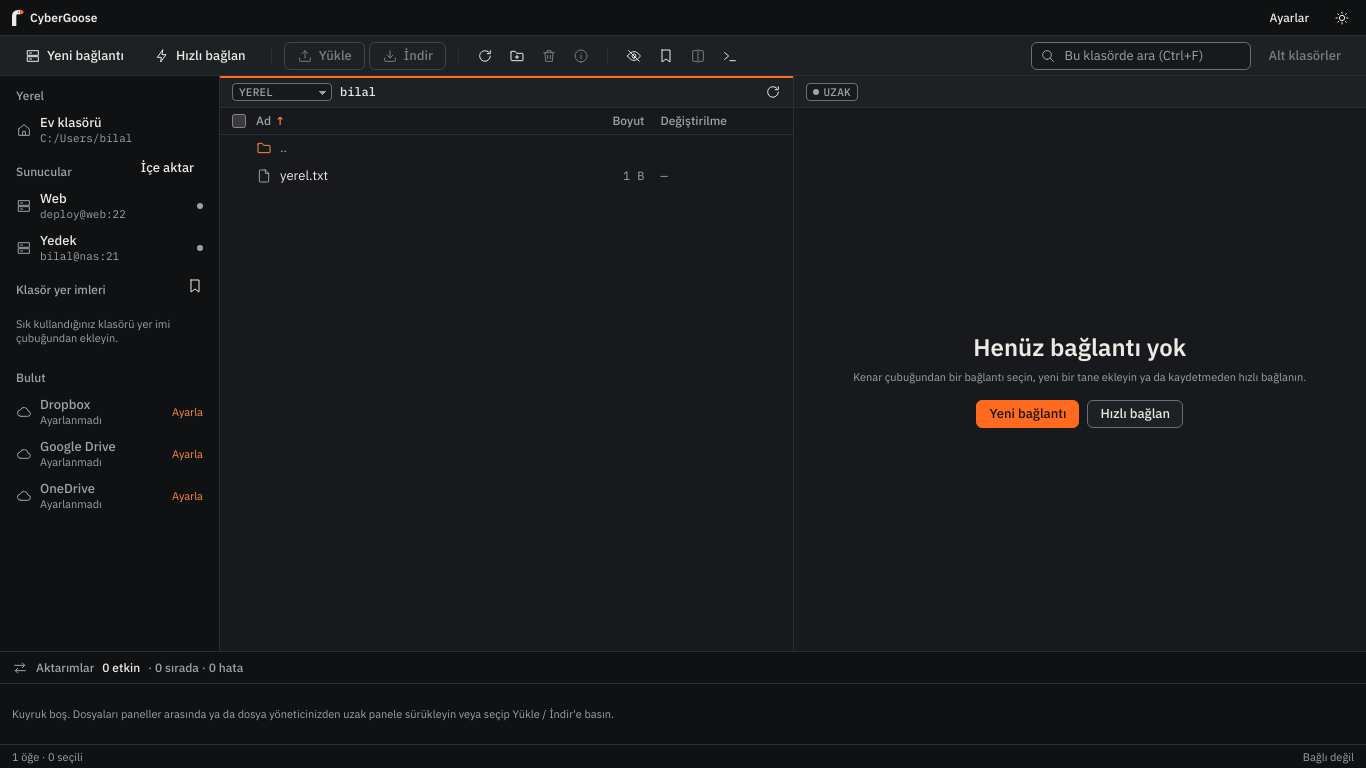
App remote-to-remote › shows why the left connection failed and stays local
Select "FTP · Yedek" in the dropdown named "Sol panel kaynağı": (284,92) [239, 84, 329, 100]
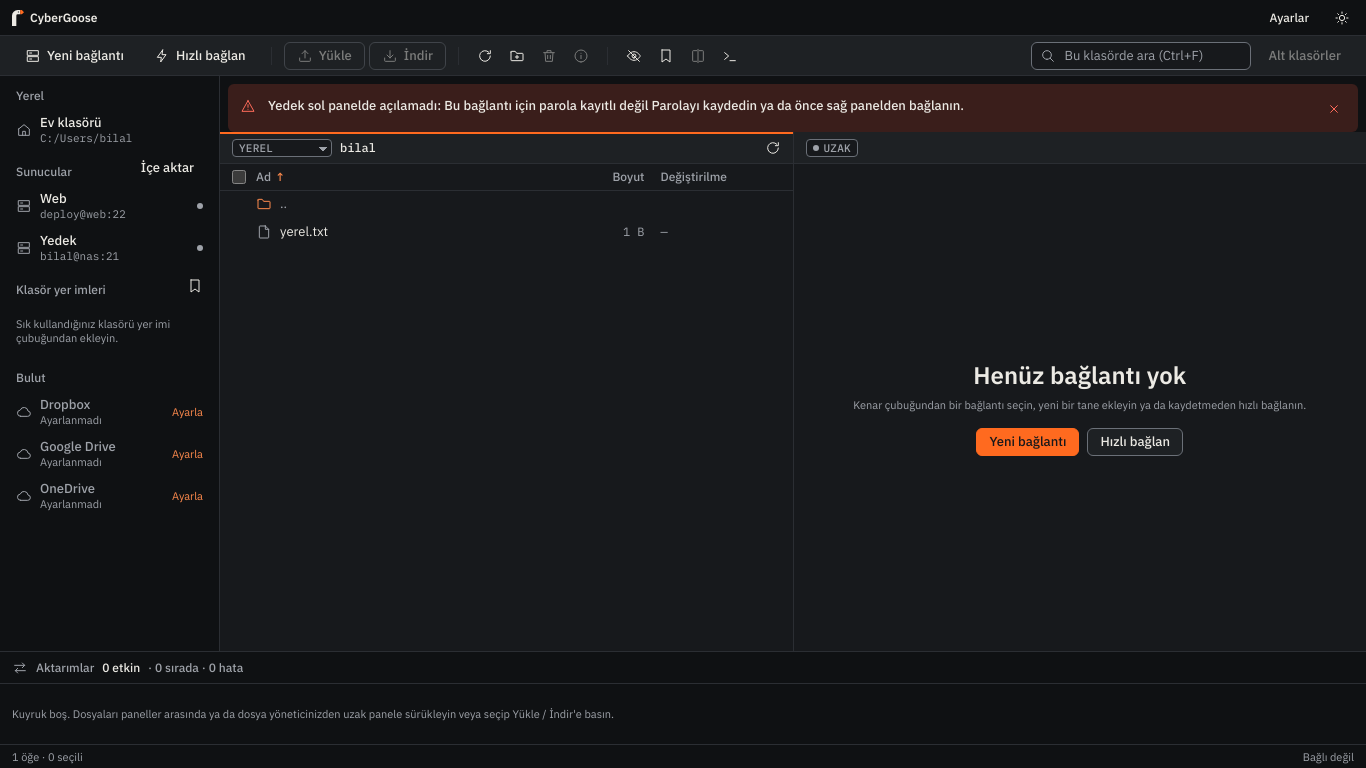
Expected: the table named "Yerel dosyalar" is shown, [220, 164, 792, 246]
Expected: the text "Yedek sol panelde açılamadı: Bu bağlantı için parola kayıtlı değil" is shown, [268, 97, 964, 114]
